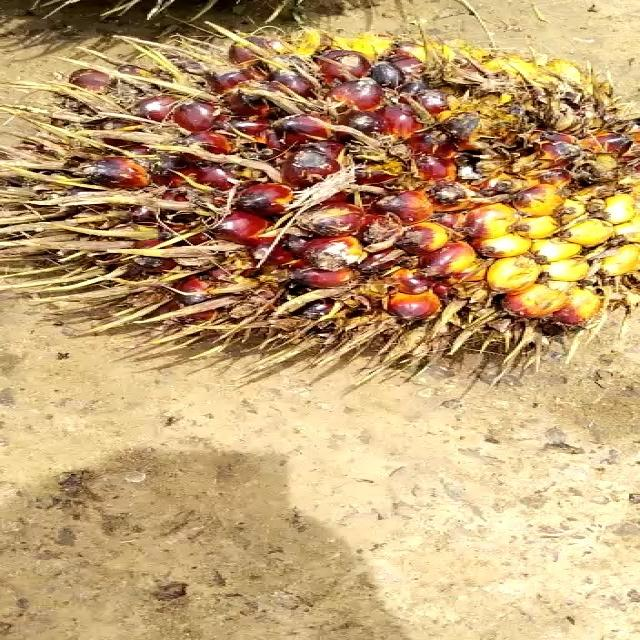palm oil: (0, 25, 640, 358)
